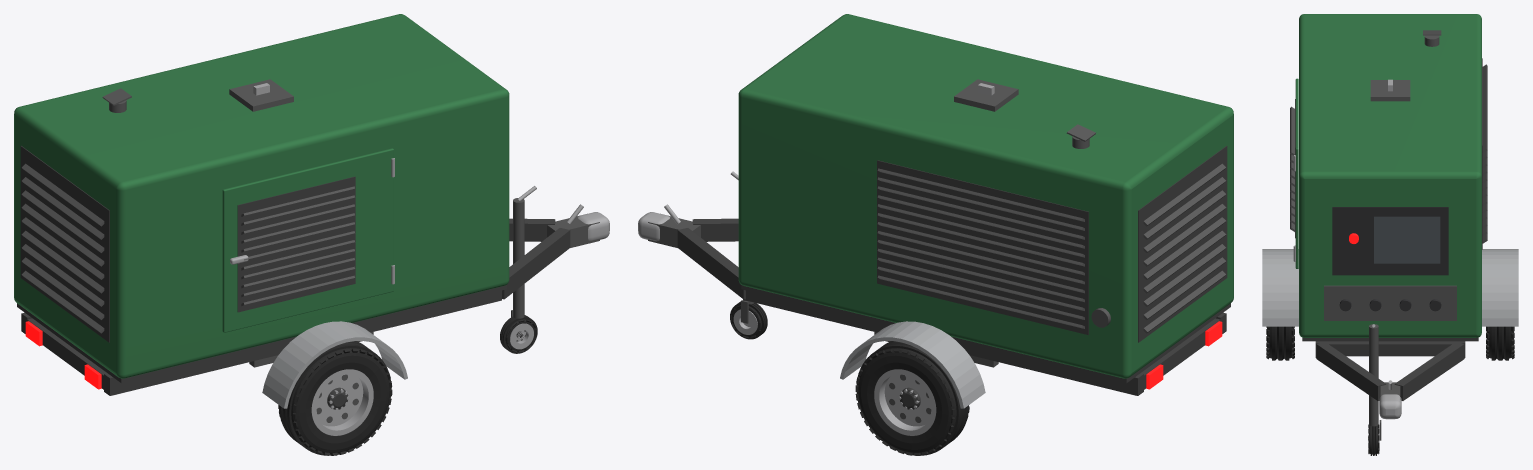
File: diesel_generator.glb
3 views of the same model, side by side, from view 1: azimuth 30°, elevation 25°; view 2: azimuth 150°, elevation 25°; view 3: azimuth 270°, elevation 25° (orthographic). The views are drawn at different scales.
Parts seen in each view (by area): view 1: canopy, panel_rotate, trailer_frame, wheel_right_spin, jockey_wheel_spin; view 2: canopy, trailer_frame, wheel_left_spin, jockey_wheel_spin; view 3: canopy, trailer_frame, panel_rotate, wheel_left_spin, wheel_right_spin, jockey_wheel_spin.
Part boxes in pixels (x1,y1,x2,y2): canopy: (14, 14, 509, 383); panel_rotate: (222, 148, 394, 332); trailer_frame: (21, 186, 609, 408); wheel_right_spin: (278, 341, 392, 455); jockey_wheel_spin: (500, 315, 537, 353); canopy: (738, 14, 1233, 383); trailer_frame: (638, 171, 1226, 408); wheel_left_spin: (855, 341, 969, 455); jockey_wheel_spin: (730, 301, 767, 339); canopy: (1299, 14, 1487, 341); trailer_frame: (1262, 249, 1518, 440); panel_rotate: (1290, 78, 1298, 268); wheel_left_spin: (1486, 326, 1514, 360); wheel_right_spin: (1266, 326, 1294, 360); jockey_wheel_spin: (1368, 424, 1379, 455).
Size of the model in its own units: 3.2 by 1.8 by 1.54.
9 materials, 9 textured.
